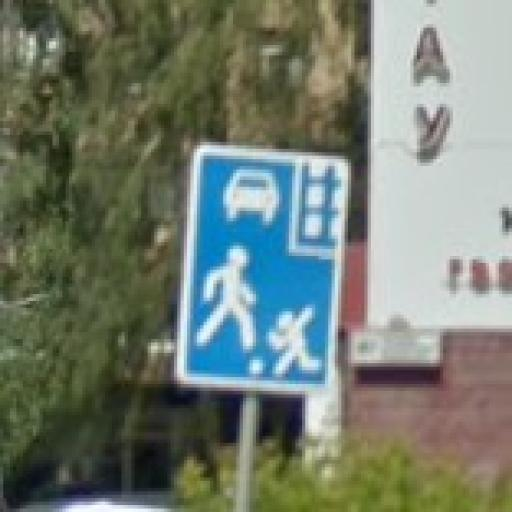traffic_sign: (175, 143, 355, 399)
